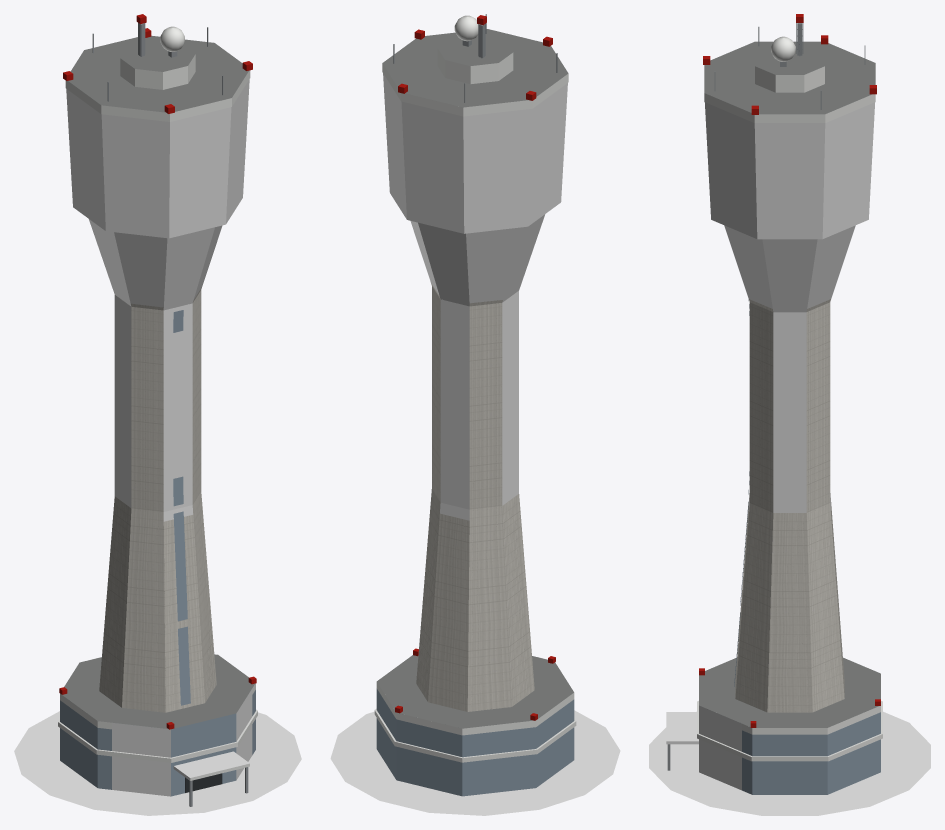
Rendered from pektower.glb.
The picture shows the model from 3 angles, left to right: view 1: azimuth 30°, elevation 25°; view 2: azimuth 150°, elevation 25°; view 3: azimuth 270°, elevation 25°; orthographic projection.
Visible parts, largest first — view 1: Tower, COL_head, Far, CLEAR_tower, COL_shaft.001, COL_shaft.002, COL_podium, COL_canopy, FOOTPRINT_tower; view 2: Tower, COL_head, Far, CLEAR_tower, COL_shaft.001, COL_shaft.002, FOOTPRINT_tower; view 3: Tower, COL_head, Far, CLEAR_tower, COL_shaft.002, COL_shaft.001, COL_podium, FOOTPRINT_tower, COL_canopy.
Boxes of the visible parts, <box> form: Tower: <box>58,23,257,806</box>; COL_head: <box>66,79,249,238</box>; Far: <box>62,14,254,796</box>; CLEAR_tower: <box>14,711,301,815</box>; COL_shaft.001: <box>114,295,192,511</box>; COL_shaft.002: <box>89,219,222,310</box>; COL_podium: <box>112,689,252,796</box>; COL_canopy: <box>173,751,249,780</box>; FOOTPRINT_tower: <box>53,738,264,798</box>; Tower: <box>374,14,576,796</box>; COL_head: <box>383,73,567,233</box>; Far: <box>377,15,573,728</box>; CLEAR_tower: <box>330,710,620,815</box>; COL_shaft.001: <box>440,291,518,509</box>; COL_shaft.002: <box>410,214,544,306</box>; FOOTPRINT_tower: <box>369,738,582,799</box>; Tower: <box>667,23,882,794</box>; COL_head: <box>704,102,875,239</box>; Far: <box>699,14,880,727</box>; CLEAR_tower: <box>649,711,930,815</box>; COL_shaft.002: <box>724,225,855,312</box>; COL_shaft.001: <box>773,312,806,512</box>; COL_podium: <box>699,705,741,790</box>; FOOTPRINT_tower: <box>685,736,894,800</box>; COL_canopy: <box>666,712,698,744</box>.
Bounding box in the file's own units: 34.33 × 98.85 × 34.33.
10 materials, 1 textured.
